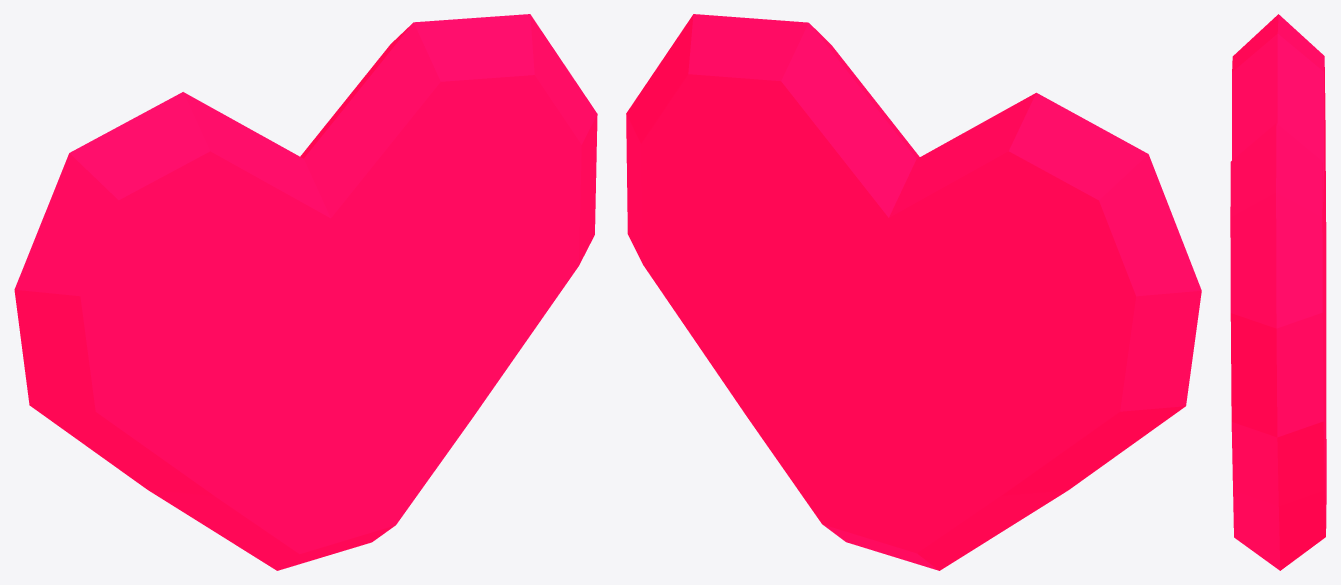
The model's file is heart.glb.
The picture shows the model from 3 angles, left to right: view 1: azimuth 30°, elevation 25°; view 2: azimuth 150°, elevation 25°; view 3: azimuth 270°, elevation 25°; orthographic projection. The views are drawn at different scales.
Visible parts, largest first — view 1: Heart; view 2: Heart; view 3: Heart.
Boxes of the visible parts, left/top/right/bottom form: Heart: left=14, top=14, right=597, bottom=570; Heart: left=626, top=14, right=1201, bottom=570; Heart: left=1230, top=14, right=1326, bottom=570.
Bounding box in the file's own units: 0.5552 × 0.4725 × 0.0874.
